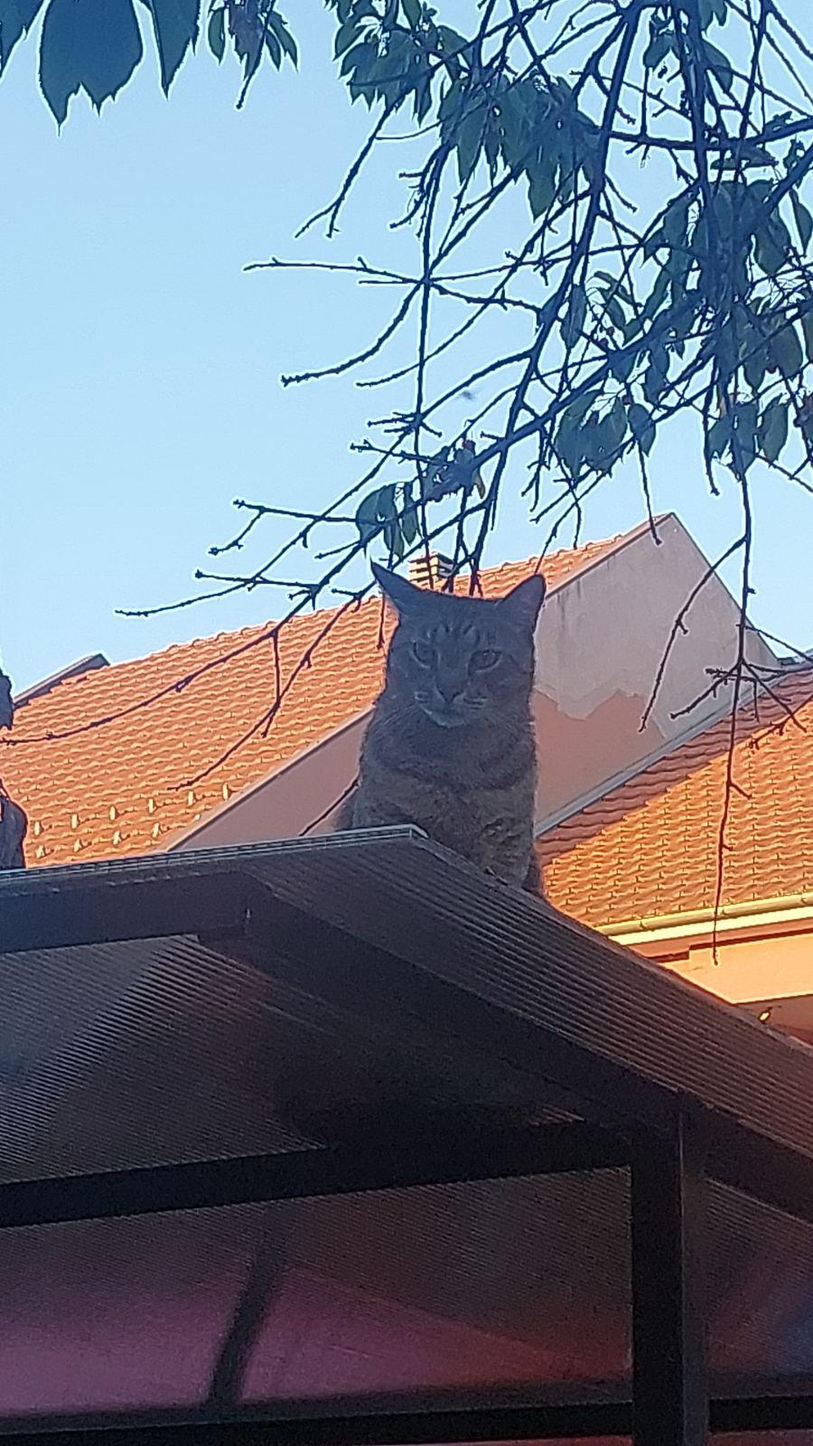macka: (336, 555, 547, 983)
